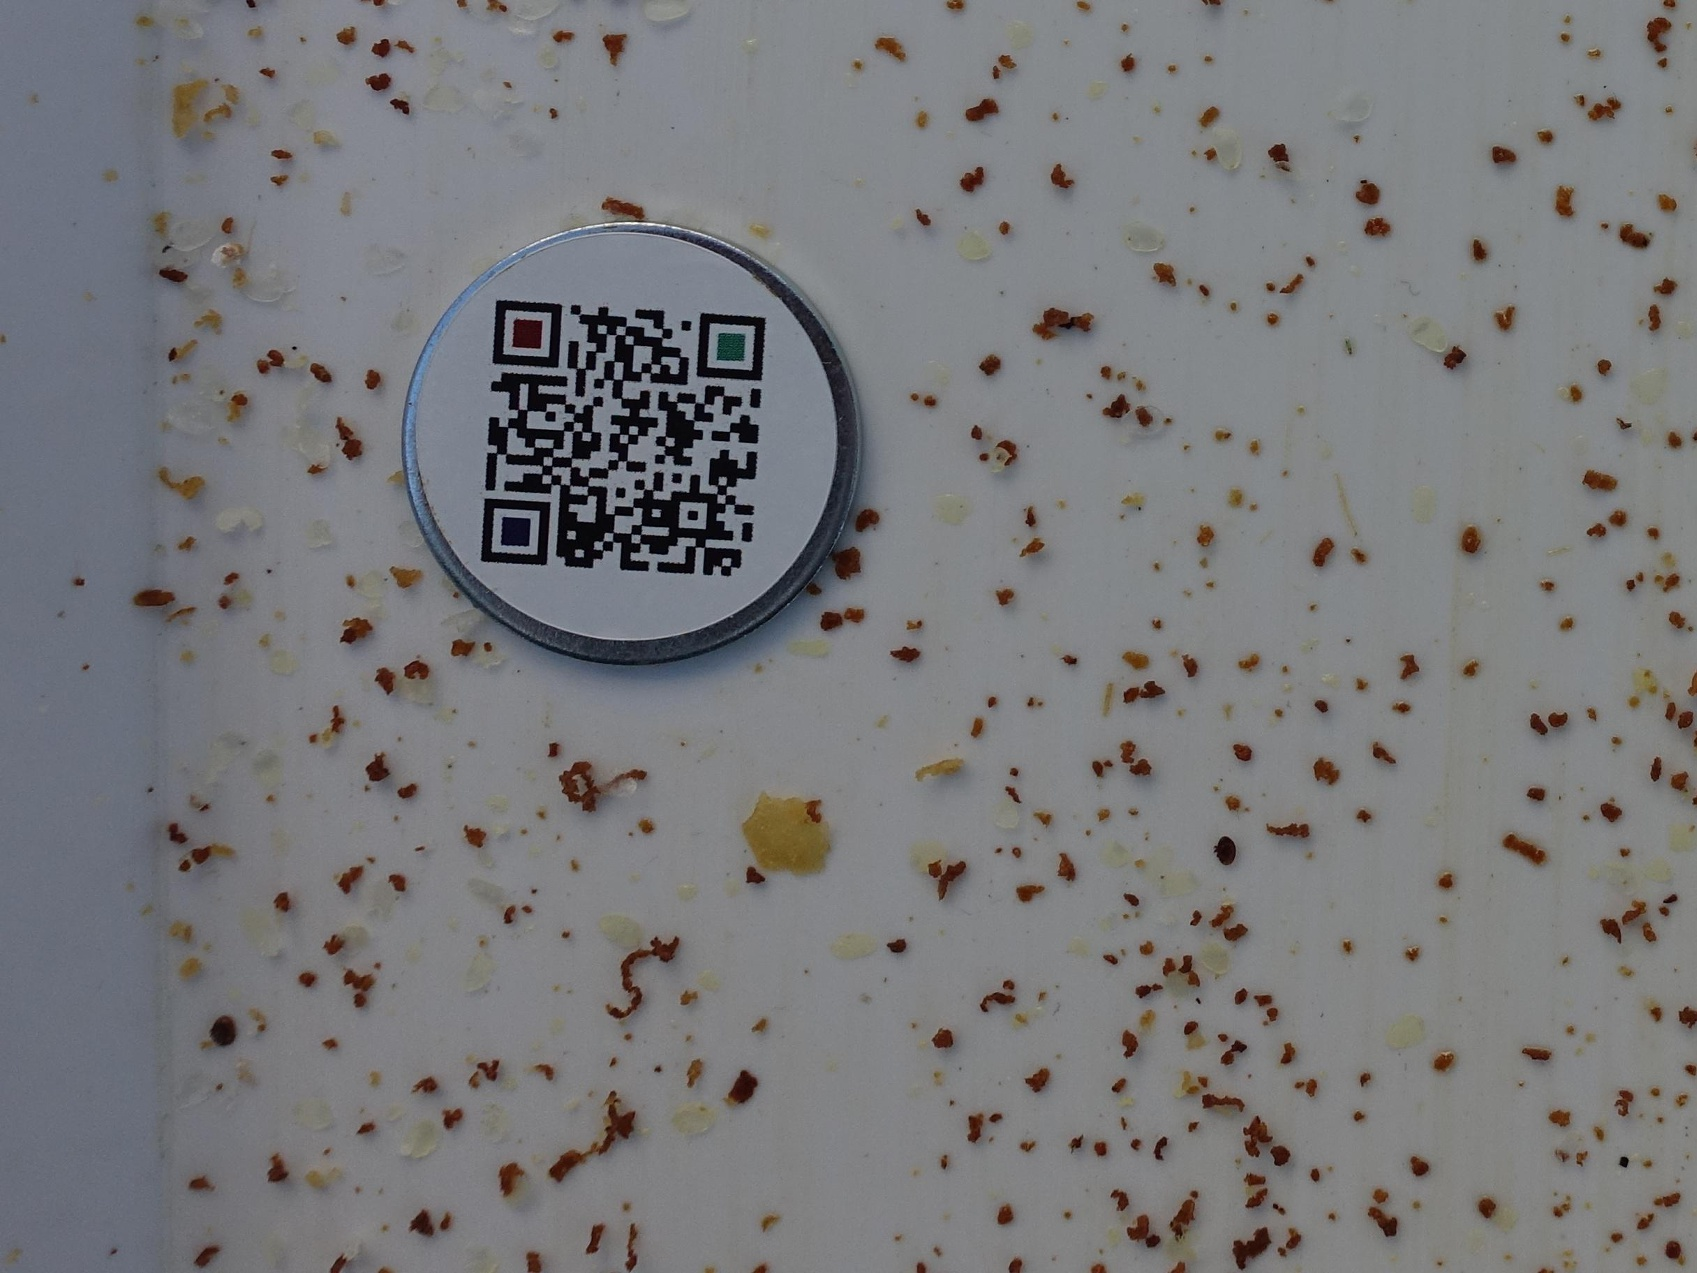Varroa: (211, 1014, 235, 1040), (1214, 841, 1234, 860)
